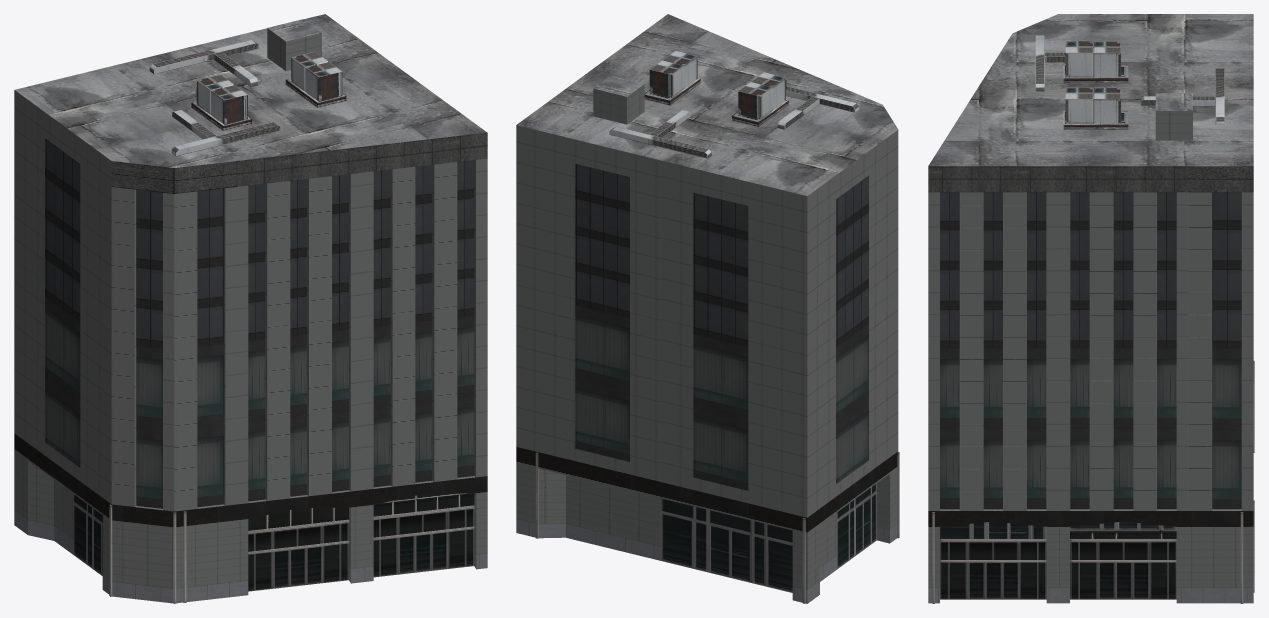
The model's file is office1.glb.
The picture shows the model from 3 angles, left to right: view 1: azimuth 30°, elevation 25°; view 2: azimuth 150°, elevation 25°; view 3: azimuth 270°, elevation 25°; orthographic projection. The views are drawn at different scales.
Parts seen in each view (by area): view 1: office1; view 2: office1; view 3: office1.
Boxes of the visible parts, box(x1,y1,x2,y2) form: office1: box(14, 14, 487, 603); office1: box(516, 14, 899, 603); office1: box(928, 14, 1254, 603).
Size of the model in its own units: 26.17 by 37.07 by 23.51.
Materials: 3 (3 with a texture image).
